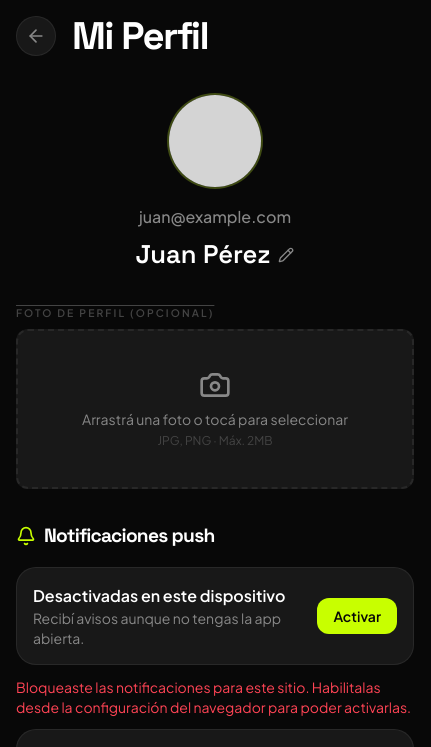
ProfileView › shows validation error for single word name
The width and height of the screenshot is (431, 747).
Expected: the text "Juan Pérez" is shown, top-left (136, 237), bottom-right (270, 273)
Click the button "Juan Pérez" at (215, 255), box top-left (55, 237), bottom-right (375, 273)
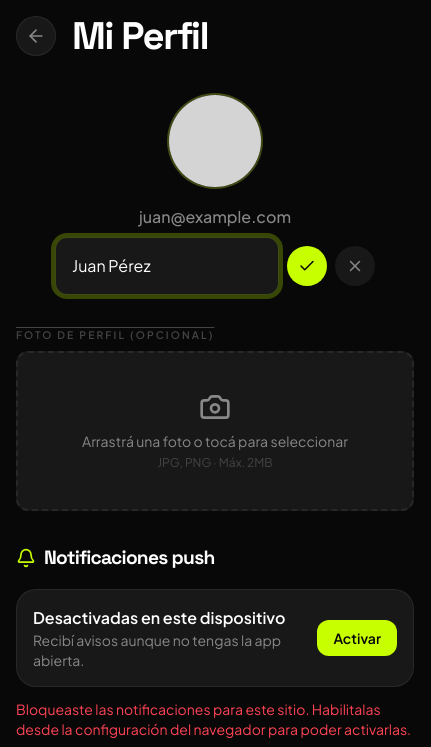
Replace the text in the field with "Pedro" at (167, 266), box top-left (55, 237), bottom-right (279, 295)
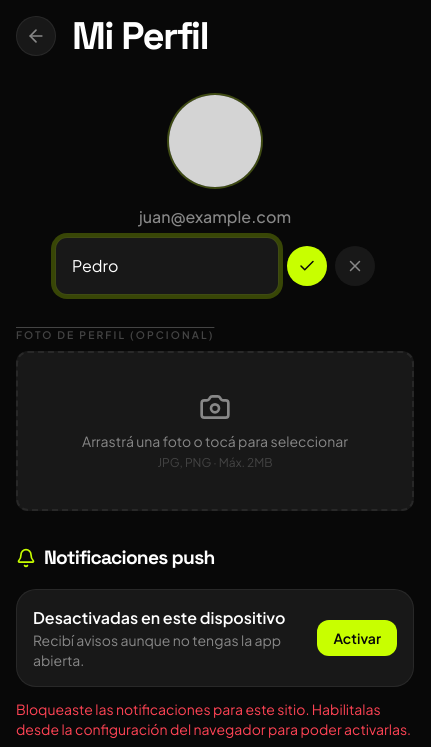
Click the button named "Guardar nombre" at (307, 266), box top-left (287, 246), bottom-right (327, 286)
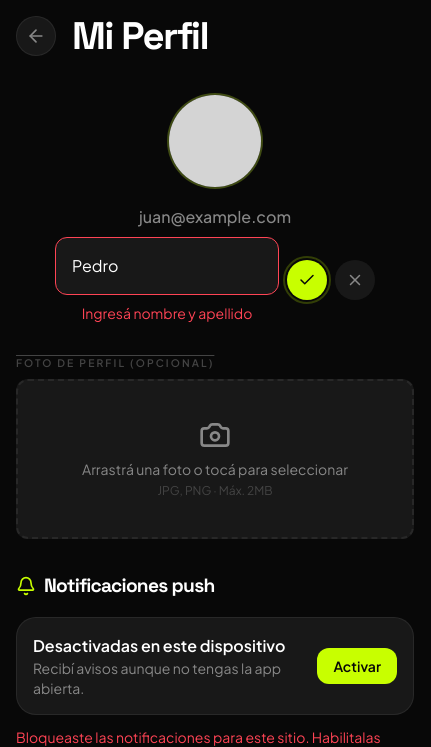
Expected: the text "Ingresá nombre y apellido" is shown, top-left (82, 304), bottom-right (252, 322)
